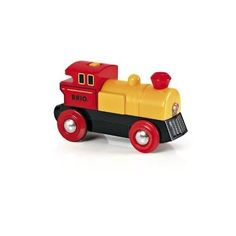brio: (51, 53, 193, 160)
